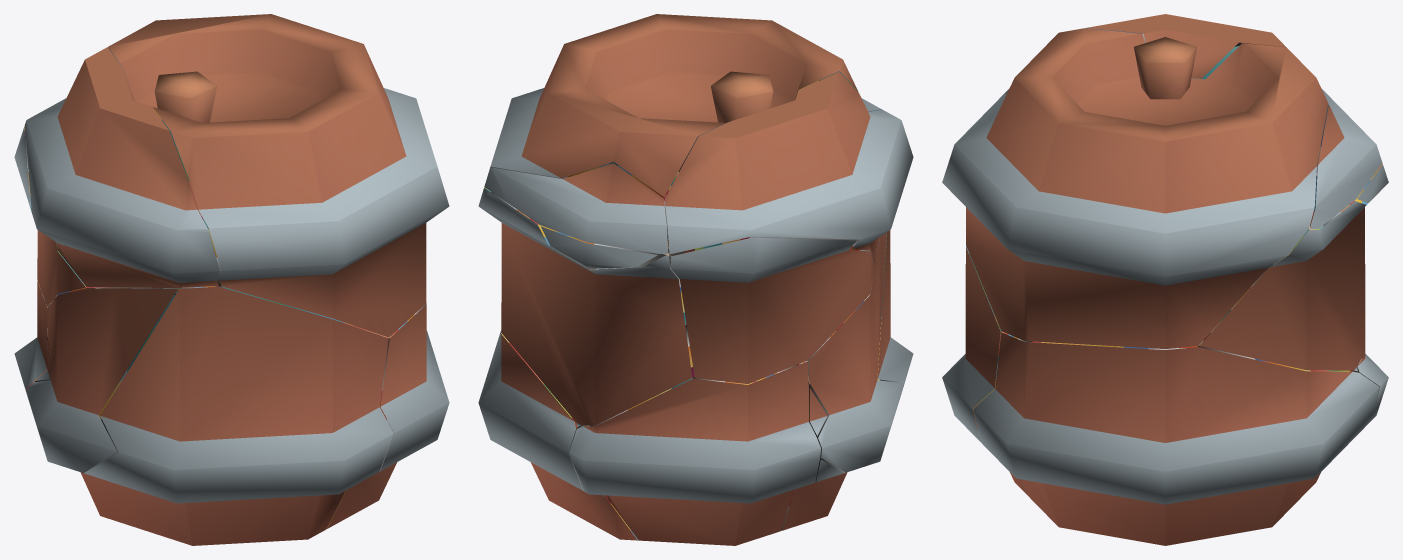
The model's file is barrel_small_fractured.glb.
3 renders of one model, left to right at view 1: azimuth 30°, elevation 25°; view 2: azimuth 150°, elevation 25°; view 3: azimuth 270°, elevation 25°, orthographic.
Visible parts, largest first — view 1: barrel_small.001_cell.007, barrel_small.001_cell, barrel_small.001_cell.001, barrel_small.001_cell.009, barrel_small.001_cell.002, barrel_small.001_cell.005, barrel_small.001_cell.010, barrel_small.001_cell.003; view 2: barrel_small.001_cell.007, barrel_small.001_cell.003, barrel_small.001_cell.001, barrel_small.001_cell.006, barrel_small.001_cell.005, barrel_small.001_cell.009, barrel_small.001_cell.002, barrel_small.001_cell.008, barrel_small.001_cell, barrel_small.001_cell.010, barrel_small.001_cell.004; view 3: barrel_small.001_cell.007, barrel_small.001_cell.002, barrel_small.001_cell.006, barrel_small.001_cell, barrel_small.001_cell.008, barrel_small.001_cell.001, barrel_small.001_cell.010, barrel_small.001_cell.003, barrel_small.001_cell.004.
Boxes of the visible parts, x1,y1,x2,y2 form: barrel_small.001_cell.007: (108, 14, 449, 337); barrel_small.001_cell: (35, 286, 393, 545); barrel_small.001_cell.001: (24, 47, 219, 288); barrel_small.001_cell.009: (25, 288, 177, 472); barrel_small.001_cell.002: (327, 304, 449, 528); barrel_small.001_cell.005: (14, 126, 100, 307); barrel_small.001_cell.010: (154, 71, 216, 122); barrel_small.001_cell.003: (14, 281, 47, 413); barrel_small.001_cell.007: (490, 14, 881, 210); barrel_small.001_cell.003: (569, 361, 821, 545); barrel_small.001_cell.001: (665, 72, 913, 262); barrel_small.001_cell.006: (478, 187, 693, 426); barrel_small.001_cell.005: (670, 237, 874, 383); barrel_small.001_cell.009: (807, 232, 903, 472); barrel_small.001_cell.002: (478, 330, 637, 540); barrel_small.001_cell.008: (484, 163, 667, 253); barrel_small.001_cell: (781, 230, 913, 530); barrel_small.001_cell.010: (711, 71, 773, 122); barrel_small.001_cell.004: (541, 226, 657, 268); barrel_small.001_cell.007: (942, 28, 1328, 348); barrel_small.001_cell.002: (973, 332, 1379, 545); barrel_small.001_cell.006: (1199, 198, 1367, 371); barrel_small.001_cell: (942, 246, 1025, 493); barrel_small.001_cell.008: (1310, 104, 1382, 228); barrel_small.001_cell.001: (1004, 14, 1346, 114); barrel_small.001_cell.010: (1134, 37, 1196, 99); barrel_small.001_cell.003: (1352, 352, 1388, 418); barrel_small.001_cell.004: (1357, 163, 1388, 203).
Bounding box in the file's own units: 1 × 1.02 × 1.
1 material, 1 textured.
